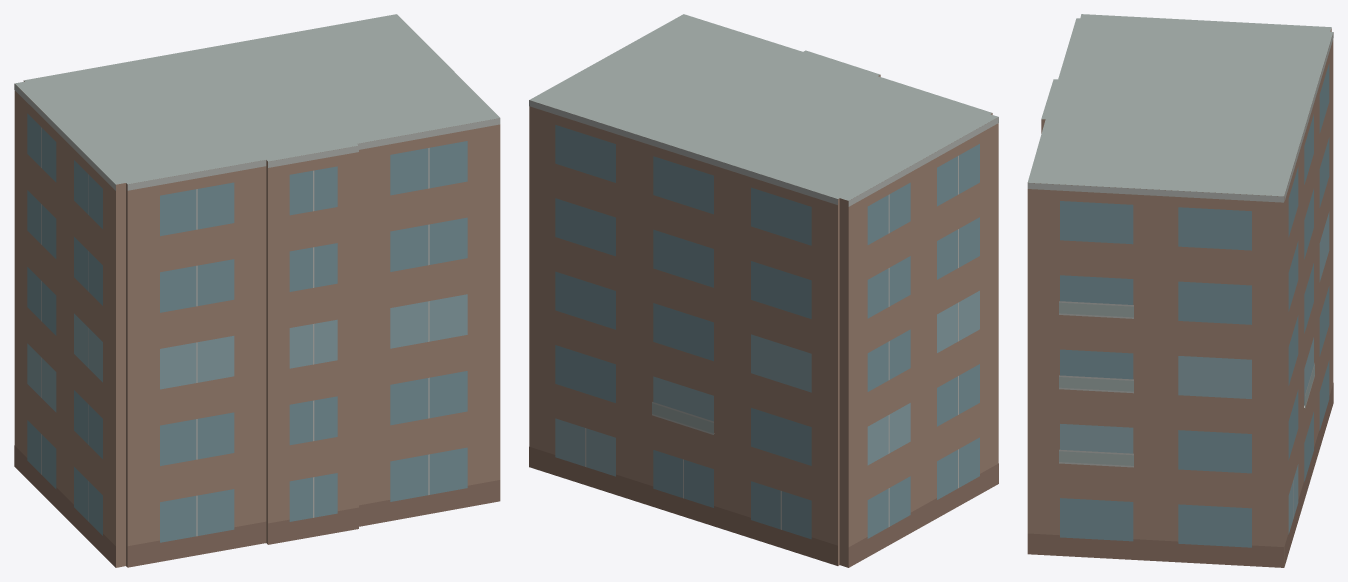
File: survey-upis-32522948.glb
3 renders of one model, left to right at view 1: azimuth 30°, elevation 25°; view 2: azimuth 150°, elevation 25°; view 3: azimuth 270°, elevation 25°, orthographic. The views are drawn at different scales.
Visible parts, largest first — view 1: survey-upis-32522948.tmp; view 2: survey-upis-32522948.tmp; view 3: survey-upis-32522948.tmp.
Boxes of the visible parts, box(x1,y1,x2,y2) form: survey-upis-32522948.tmp: box(14, 14, 500, 567); survey-upis-32522948.tmp: box(529, 14, 998, 567); survey-upis-32522948.tmp: box(1027, 14, 1333, 567).
Bounding box in the file's own units: 15.39 × 14.6 × 10.91.
